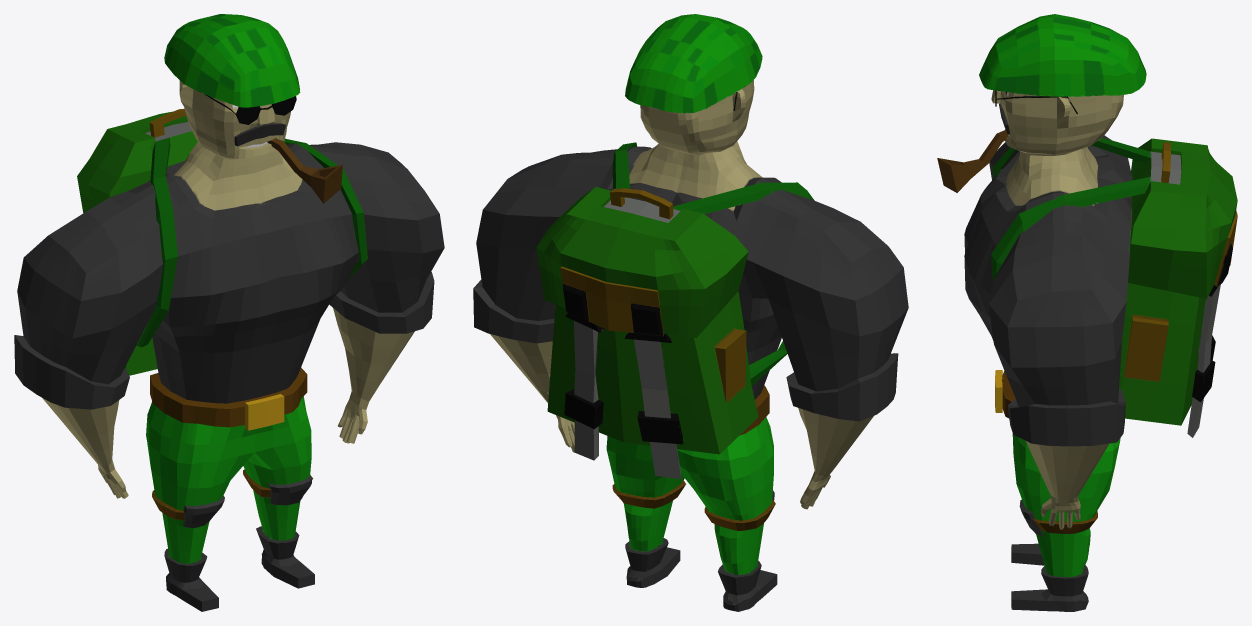
The picture shows the model from 3 angles, left to right: view 1: azimuth 30°, elevation 25°; view 2: azimuth 150°, elevation 25°; view 3: azimuth 270°, elevation 25°; orthographic projection.
Visible parts, largest first — view 1: Irokovec.001, Irokovec, Irokovec.002, Irokovec.003; view 2: Irokovec.001, Irokovec; view 3: Irokovec.001, Irokovec, Irokovec.002.
Part boxes in pixels (x1=…): Irokovec.001: x1=14, y1=14, x2=444, y2=611; Irokovec: x1=77, y1=108, x2=367, y2=375; Irokovec.002: x1=267, y1=138, x2=342, y2=203; Irokovec.003: x1=204, y1=94, x2=296, y2=124; Irokovec.001: x1=473, y1=14, x2=908, y2=611; Irokovec: x1=536, y1=142, x2=814, y2=478; Irokovec.001: x1=964, y1=14, x2=1146, y2=611; Irokovec: x1=991, y1=137, x2=1237, y2=437; Irokovec.002: x1=937, y1=130, x2=1008, y2=192.
Size of the model in its own units: 773 by 1051 by 511.
Materials: 1 (1 with a texture image).
